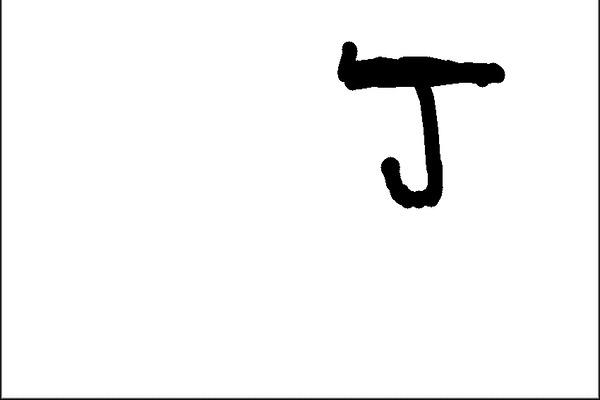J: (330, 35, 510, 215)
